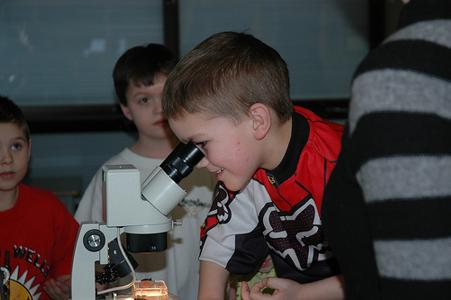person: (163, 31, 349, 300)
